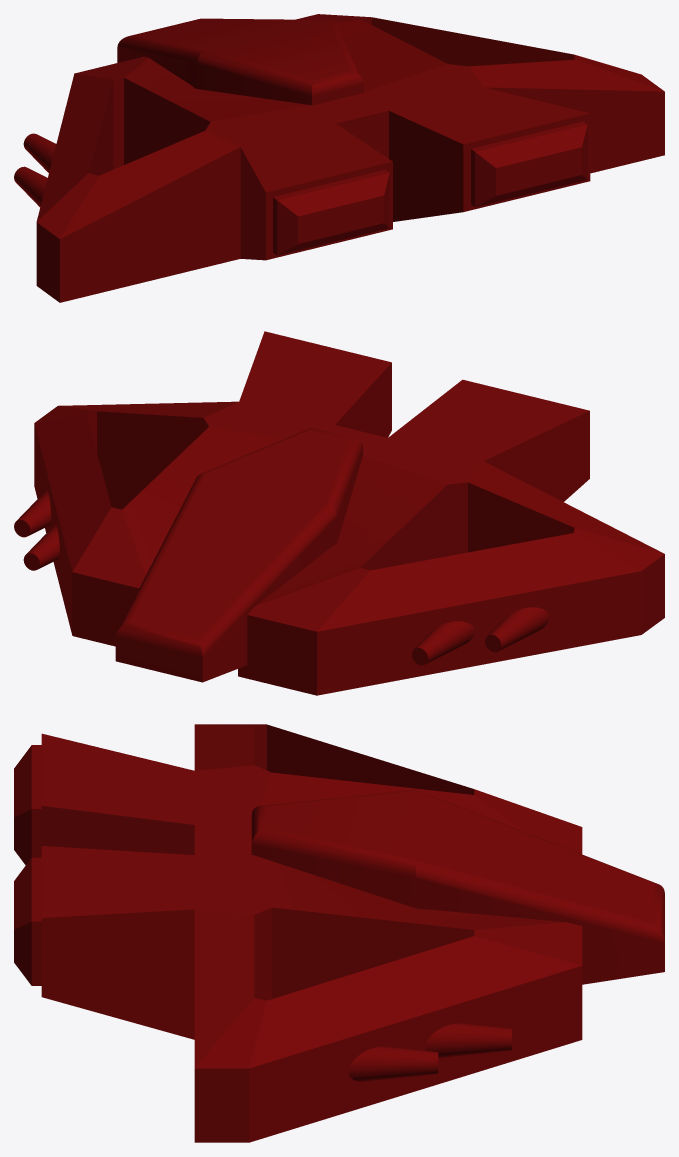
The model's file is Enemy Ship (FOUR).fbx.
3 renders of one model, top to bottom at view 1: azimuth 30°, elevation 25°; view 2: azimuth 150°, elevation 25°; view 3: azimuth 270°, elevation 25°, orthographic. The views are drawn at different scales.
Visible parts, largest first — view 1: Wings, Cockpit, Boosters, Guns; view 2: Wings, Cockpit, Guns; view 3: Wings, Cockpit, Boosters, Guns.
Part boxes in pixels (left/top/right/bottom): Wings: left=36, top=14, right=664, bottom=302; Cockpit: left=117, top=18, right=363, bottom=105; Boosters: left=273, top=121, right=587, bottom=255; Guns: left=14, top=133, right=56, bottom=207; Wings: left=34, top=331, right=664, bottom=695; Cockpit: left=115, top=427, right=362, bottom=682; Guns: left=14, top=490, right=549, bottom=665; Wings: left=41, top=724, right=582, bottom=1142; Cockpit: left=251, top=790, right=664, bottom=984; Boosters: left=14, top=745, right=41, bottom=985; Guns: left=348, top=1023, right=511, bottom=1081.
Size of the model in its own units: 14.14 by 2.94 by 11.3.
